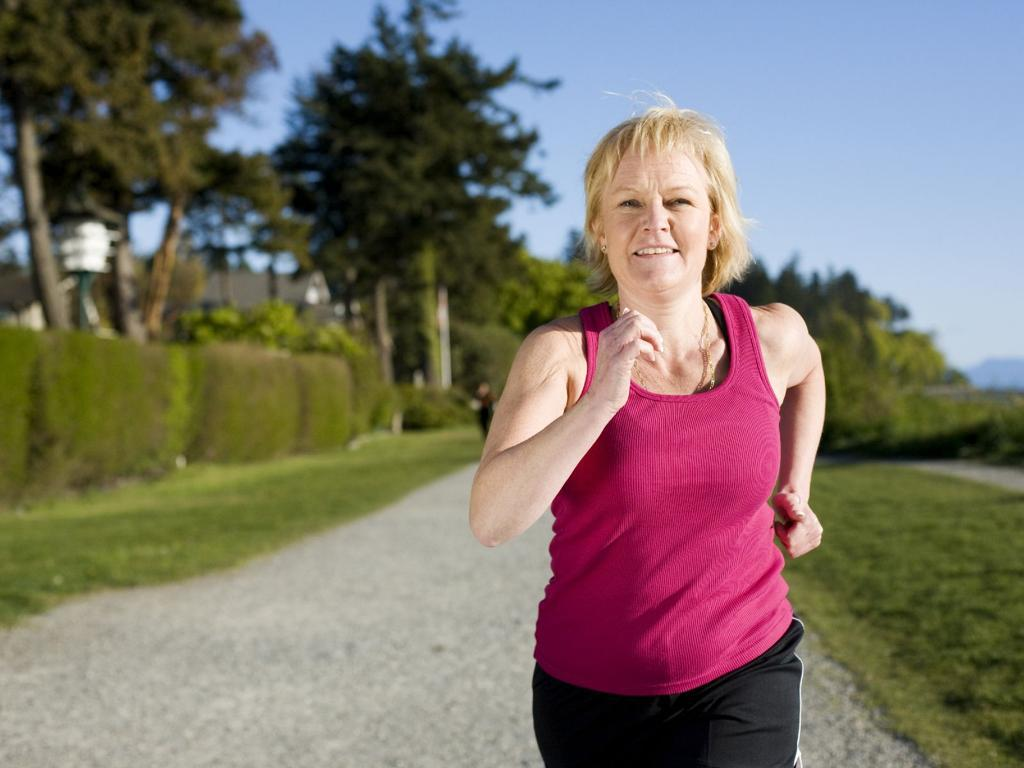face: (597, 145, 711, 287)
